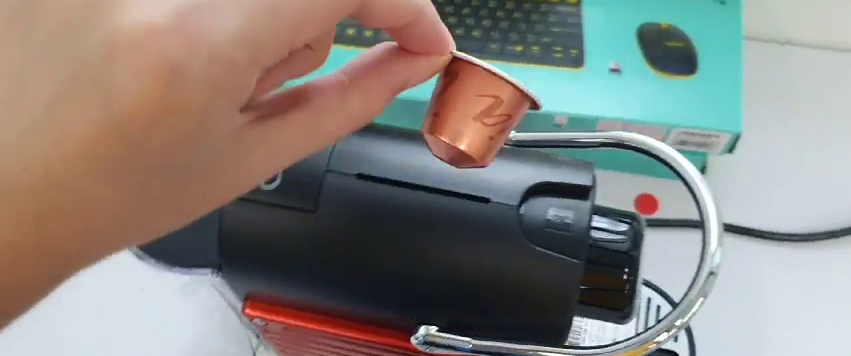capsule_6: (423, 45, 542, 173)
